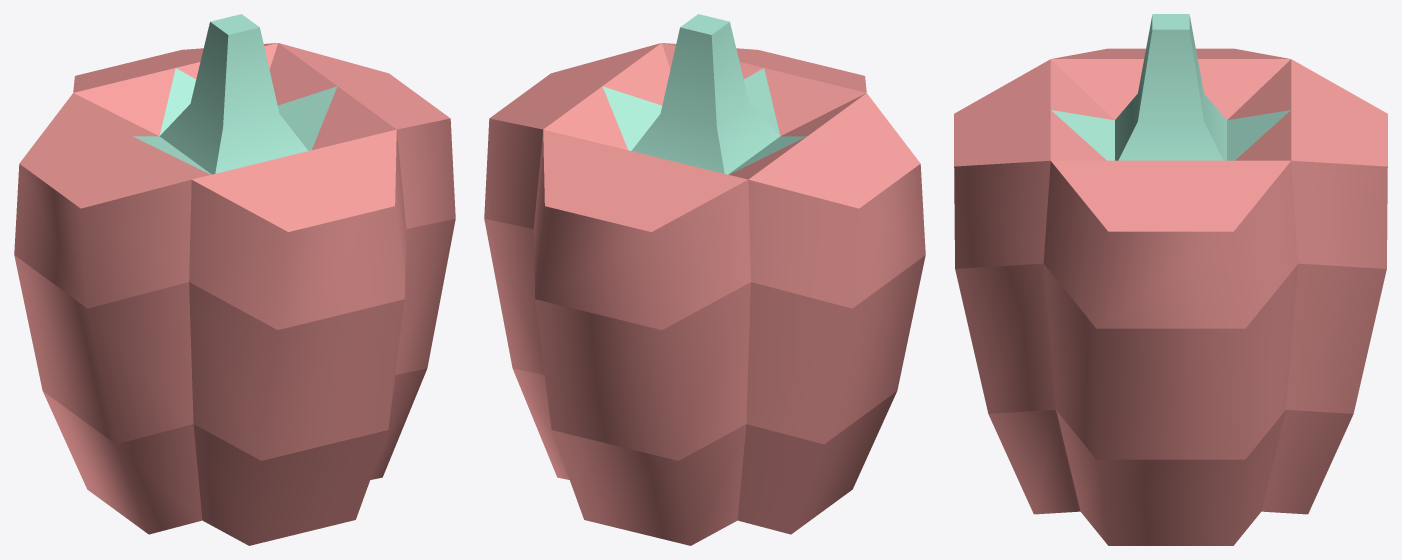
The model's file is Capsicum.glb.
The picture shows the model from 3 angles, left to right: view 1: azimuth 30°, elevation 25°; view 2: azimuth 150°, elevation 25°; view 3: azimuth 270°, elevation 25°; orthographic projection.
Parts seen in each view (by area): view 1: Capsicum; view 2: Capsicum; view 3: Capsicum.
Part boxes in pixels (x1,y1,x2,y2): Capsicum: [14, 14, 455, 545]; Capsicum: [484, 14, 925, 545]; Capsicum: [954, 14, 1387, 545].
Bounding box in the file's own units: 0.1681 × 0.1993 × 0.1681.
